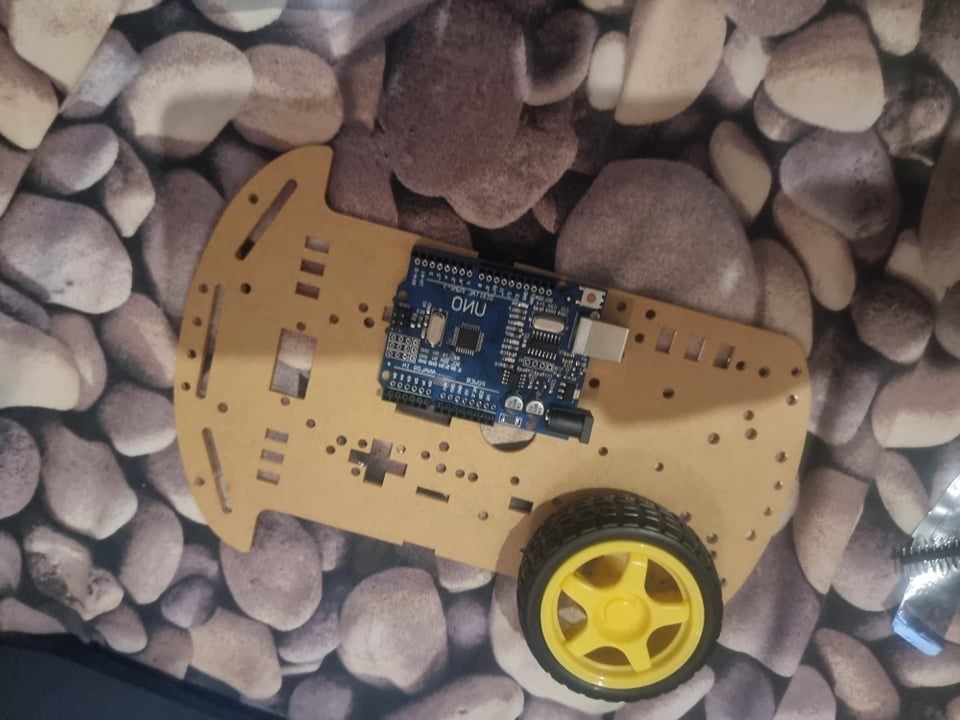UNO R3: (377, 246, 632, 445)
